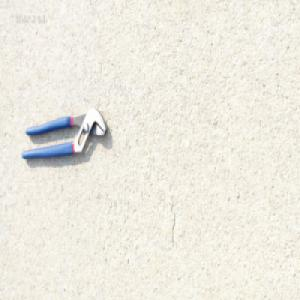Pliers: (20, 106, 108, 160)
